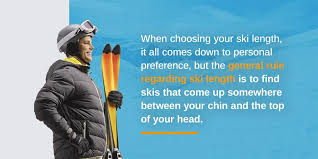skis: (100, 44, 120, 159)
